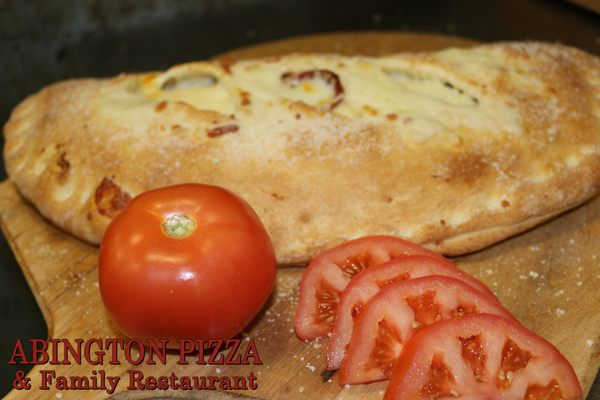steak: (98, 183, 277, 340)
